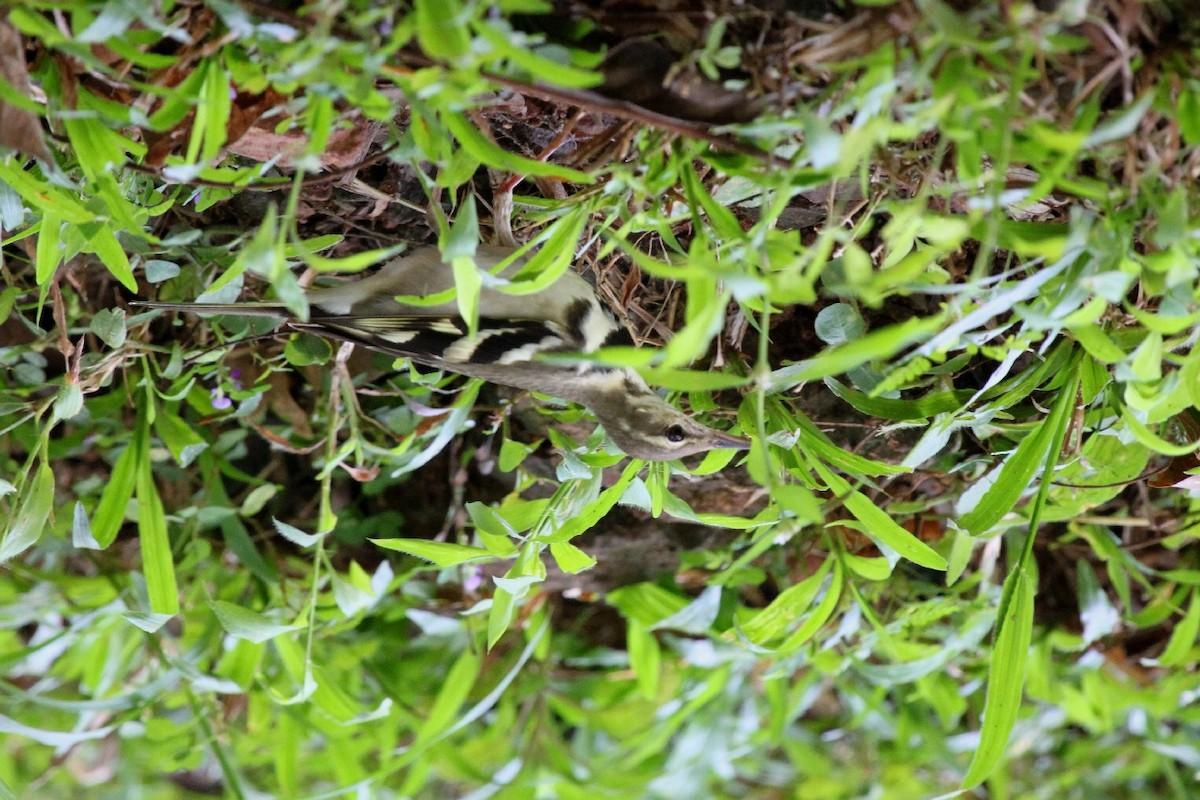wagtail: (178, 246, 745, 465)
